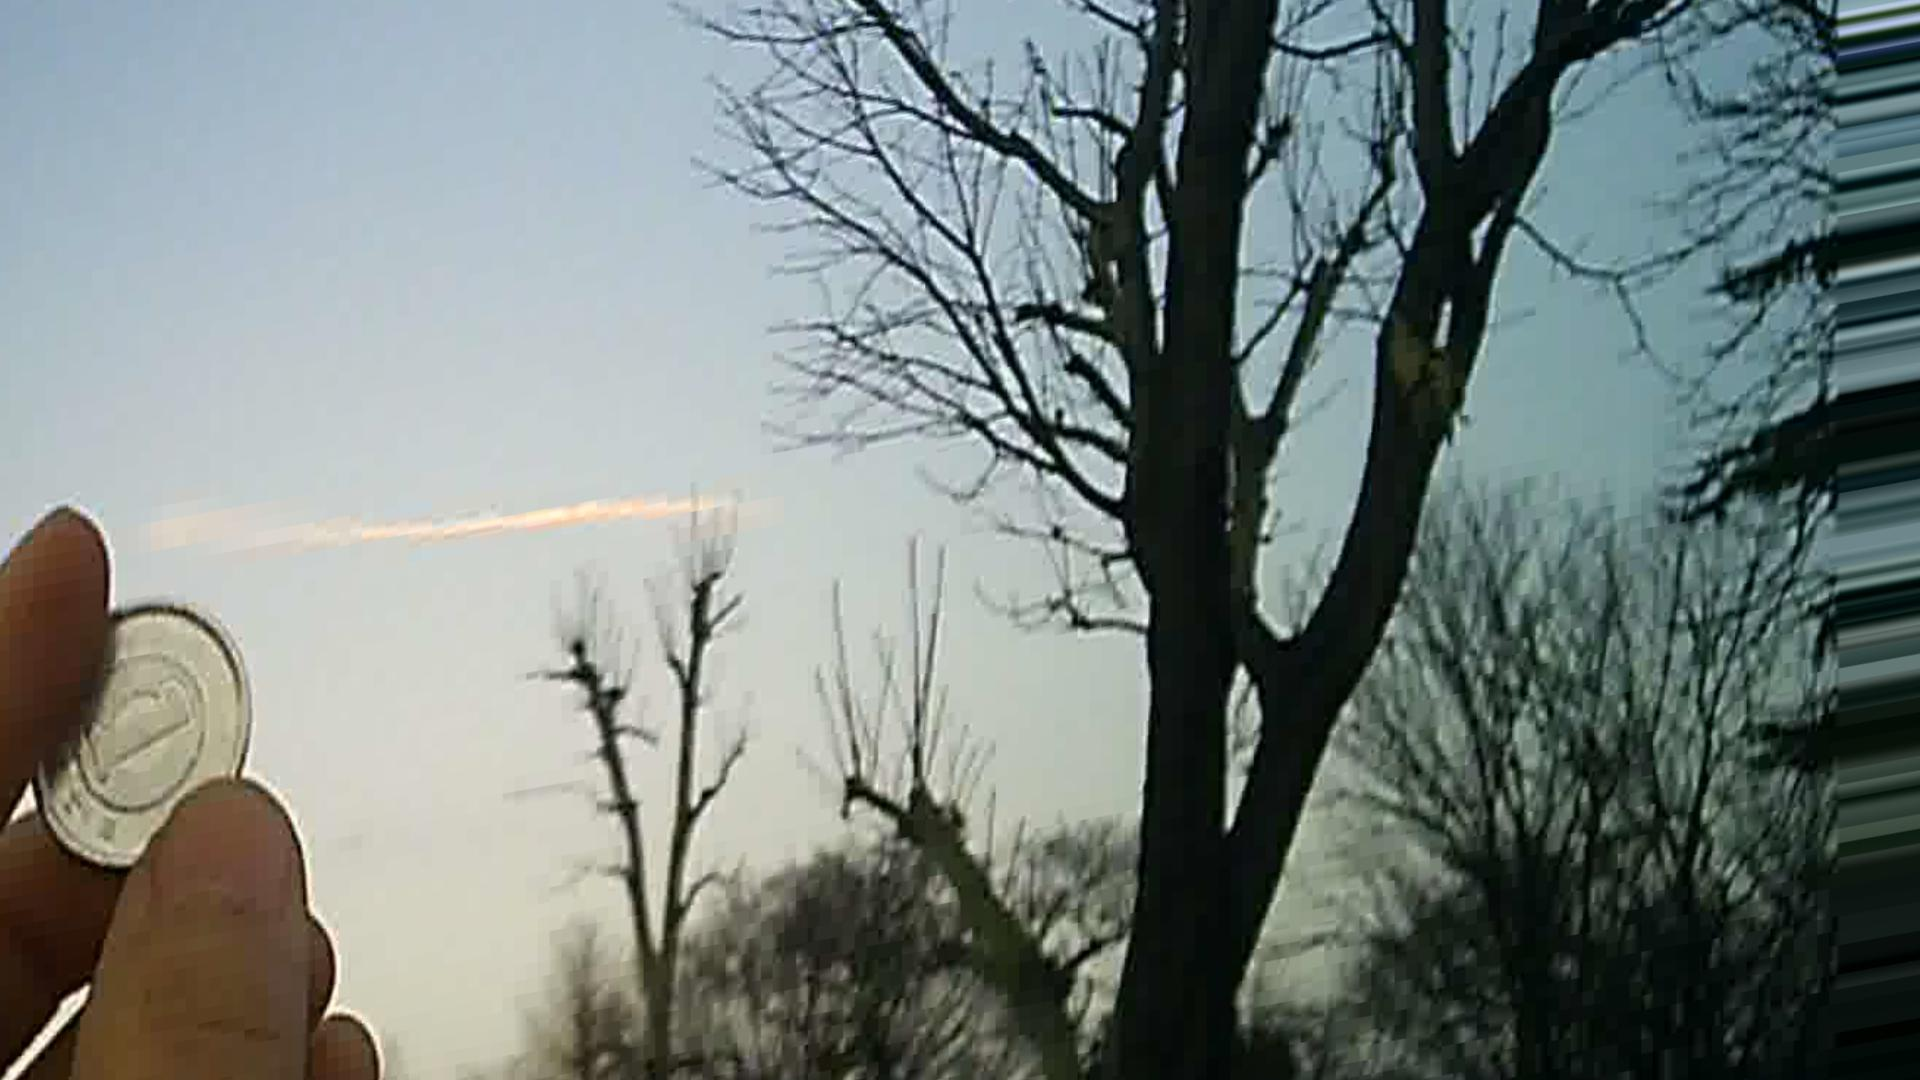1 Yen: (21, 574, 276, 870)
